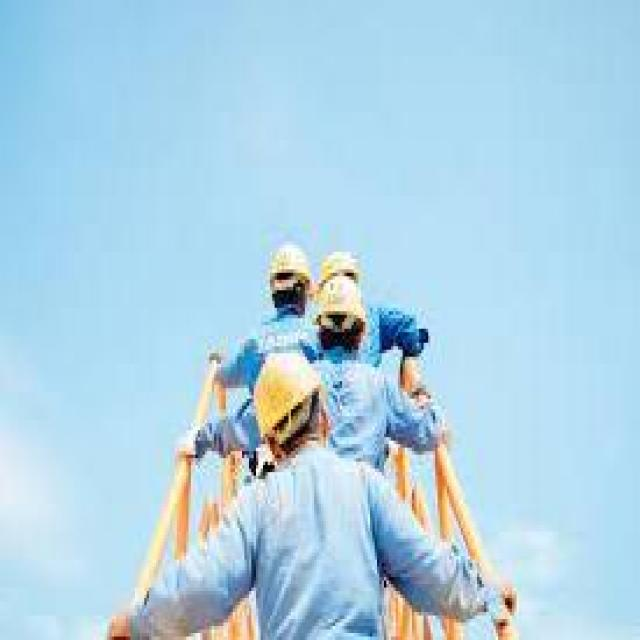Safety-Helmet: (242, 339, 331, 451), (254, 227, 316, 301), (314, 241, 372, 315)
